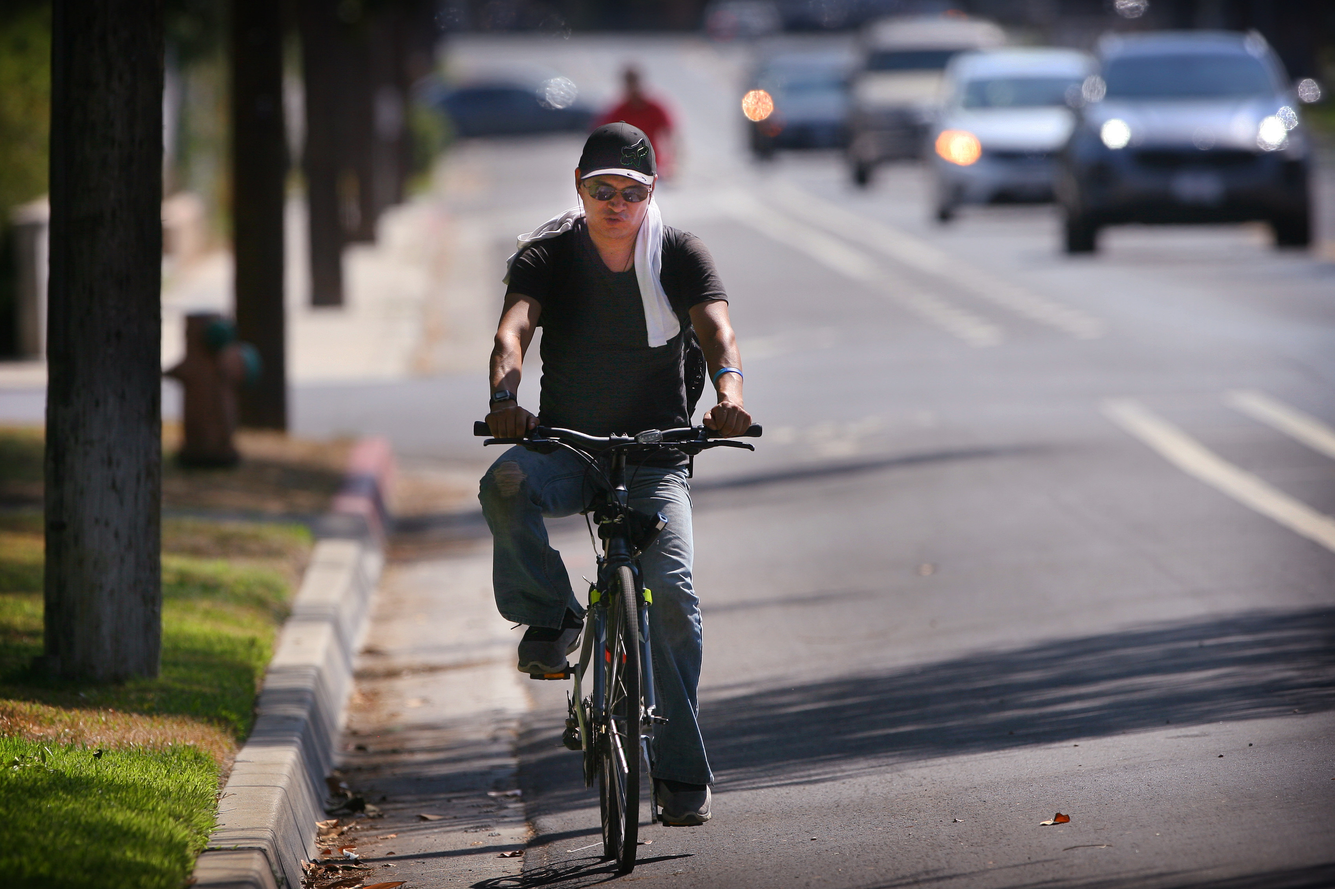Bicycle: (468, 406, 784, 871)
Person: (488, 122, 760, 787)
